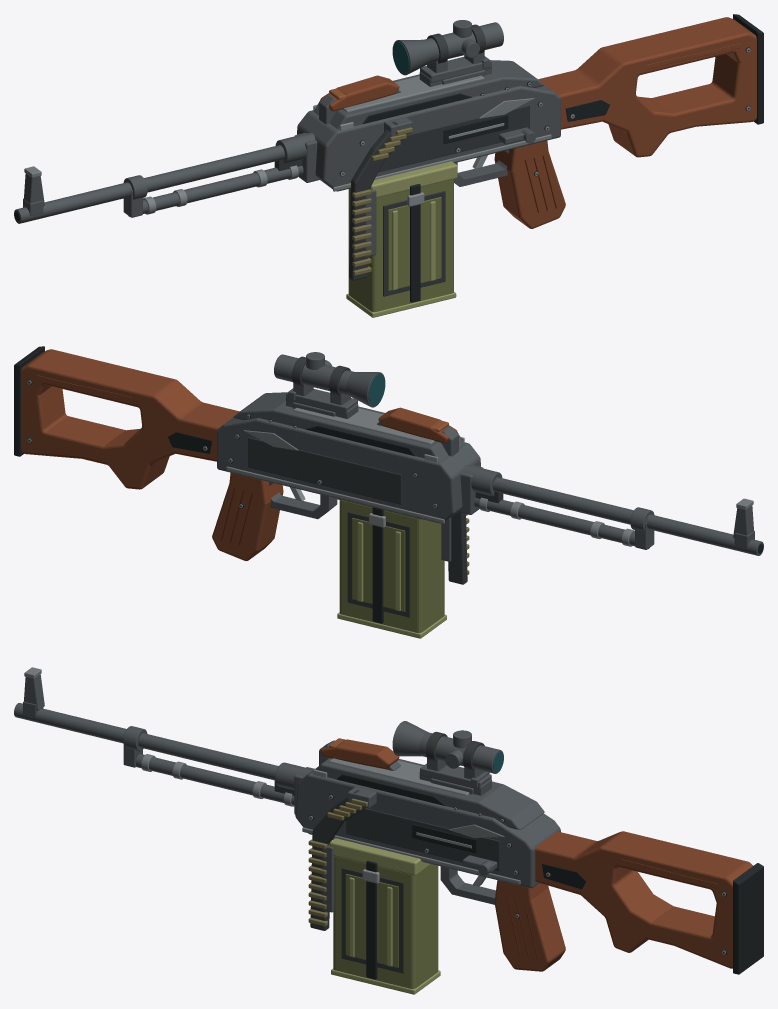
File: pkm.glb
The picture shows the model from 3 angles, top to bottom: view 1: azimuth 30°, elevation 25°; view 2: azimuth 150°, elevation 25°; view 3: azimuth 330°, elevation 25°; orthographic projection.
Parts seen in each view (by area): view 1: part_stock_surfaces, part_receiver_surfaces, part_box_surfaces, part_barrel_surfaces, part_grip_surfaces, part_cover_surfaces, part_optic_surfaces, part_belt_surfaces, part_handle_surfaces, part_sights_surfaces; view 2: part_stock_surfaces, part_receiver_surfaces, part_box_surfaces, part_barrel_surfaces, part_grip_surfaces, part_cover_surfaces, part_optic_surfaces, part_handle_surfaces, part_belt_surfaces, part_sights_surfaces; view 3: part_stock_surfaces, part_box_surfaces, part_receiver_surfaces, part_barrel_surfaces, part_grip_surfaces, part_cover_surfaces, part_optic_surfaces, part_belt_surfaces, part_handle_surfaces, part_sights_surfaces.
Boxes of the visible parts, x1,y1,x2,y2 form: part_stock_surfaces: (538,14,763,157); part_receiver_surfaces: (297,85,560,191); part_box_surfaces: (346,161,457,317); part_barrel_surfaces: (14,132,319,223); part_grip_surfaces: (454,140,565,228); part_cover_surfaces: (313,60,544,130); part_optic_surfaces: (392,20,503,86); part_belt_surfaces: (349,116,412,280); part_handle_surfaces: (319,75,400,124); part_sights_surfaces: (23,56,489,215); part_stock_surfaces: (14,346,239,489); part_receiver_surfaces: (217,417,480,523); part_box_surfaces: (336,498,446,638); part_barrel_surfaces: (458,465,763,555); part_grip_surfaces: (212,473,337,560); part_cover_surfaces: (233,392,464,462); part_optic_surfaces: (274,352,385,418); part_handle_surfaces: (377,407,458,456); part_belt_surfaces: (441,512,469,584); part_sights_surfaces: (288,388,754,548); part_stock_surfaces: (535,831,763,974); part_box_surfaces: (329,838,440,994); part_receiver_surfaces: (295,766,560,888); part_barrel_surfaces: (14,703,314,814); part_grip_surfaces: (440,866,565,971); part_cover_surfaces: (313,758,544,829); part_optic_surfaces: (392,721,503,795); part_belt_surfaces: (308,787,376,930); part_handle_surfaces: (319,738,400,770); part_sights_surfaces: (23,667,489,794).
Bounding box in the file's own units: 330 × 109 × 31.36.
